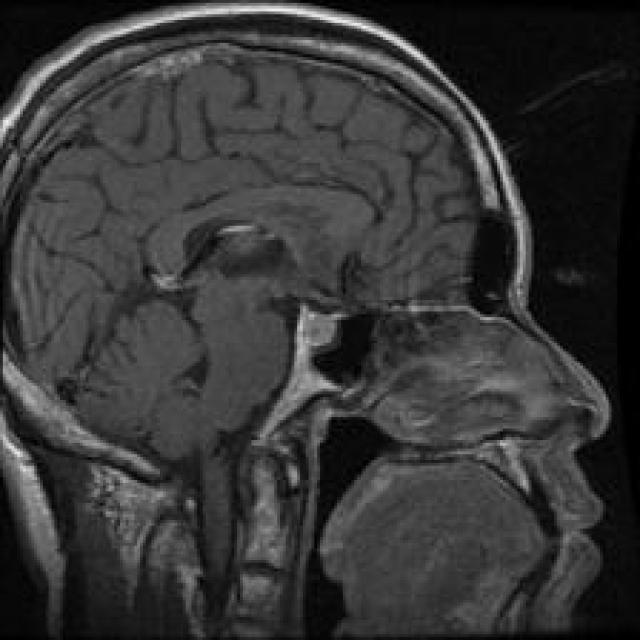pituitary_tumor: (280, 285, 360, 359)
